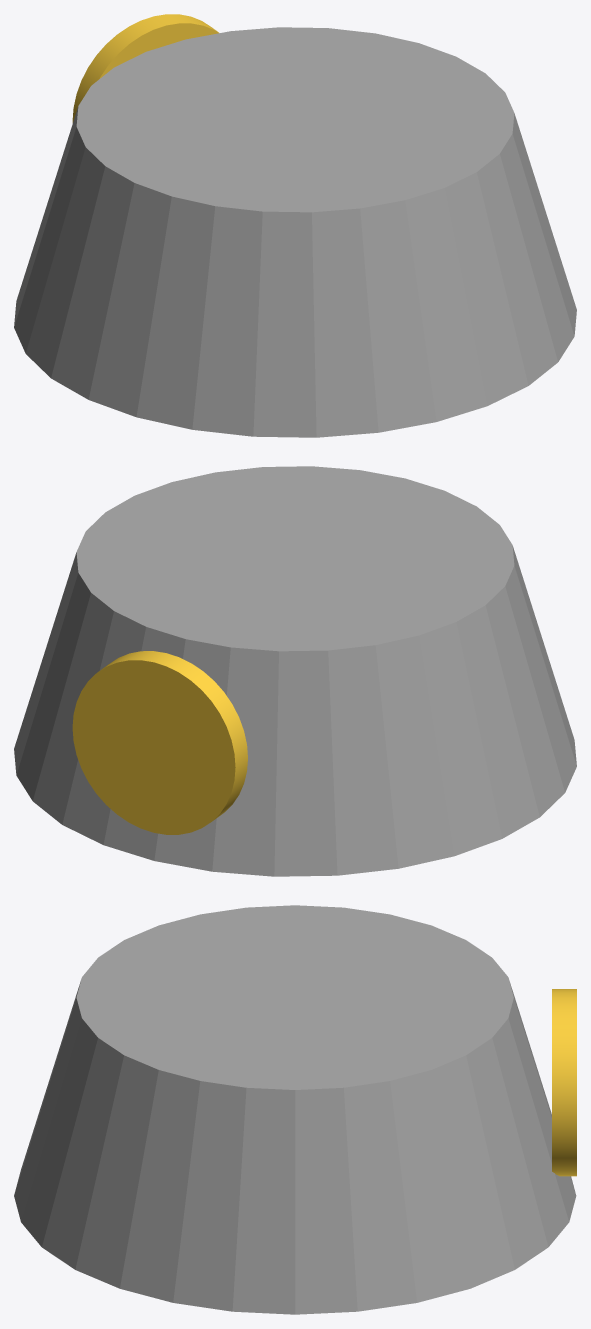
3 renders of one model, top to bottom at view 1: azimuth 30°, elevation 25°; view 2: azimuth 150°, elevation 25°; view 3: azimuth 270°, elevation 25°, orthographic.
Parts seen in each view (by area): view 1: J17_sol00, J17_d00; view 2: J17_sol00, J17_d00; view 3: J17_sol00, J17_d00.
Boxes of the visible parts, box(x1,y1,x2,y2) form: J17_sol00: box(14, 27, 576, 437); J17_d00: box(72, 14, 219, 122); J17_sol00: box(14, 466, 576, 876); J17_d00: box(72, 651, 247, 834); J17_sol00: box(14, 905, 576, 1314); J17_d00: box(552, 989, 576, 1176).
Size of the model in its own units: 0.18 by 0.07 by 0.1802.
